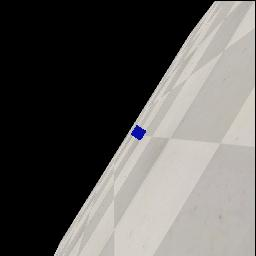box: (131, 125, 146, 140)
